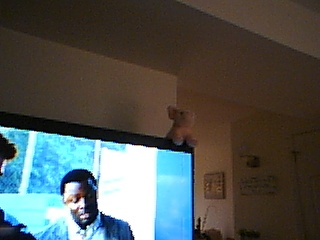piggy: (161, 104, 200, 149)
